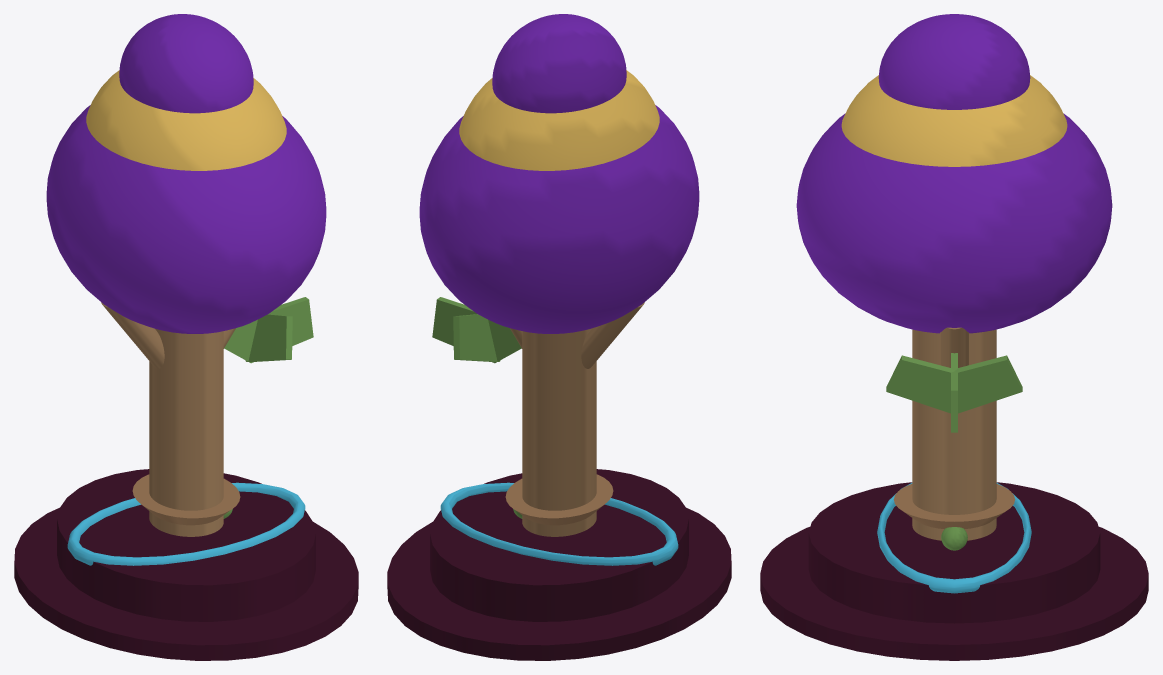
The model's file is 0100_植物图鉴_椰子.glb.
The picture shows the model from 3 angles, left to right: view 1: azimuth 30°, elevation 25°; view 2: azimuth 150°, elevation 25°; view 3: azimuth 270°, elevation 25°; orthographic projection.
Parts seen in each view (by area): view 1: card_0100; view 2: card_0100; view 3: card_0100.
Boxes of the visible parts, <box> form: card_0100: <box>14,14,358,660</box>; card_0100: <box>387,14,731,660</box>; card_0100: <box>760,14,1148,660</box>.
Bounding box in the file's own units: 0.535 × 1 × 0.6182.
